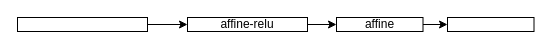
Image size: 552x51. Some labels were removed from this diagram. The shapes that lost their labels are listed below. From the top down, each one's box as (x1, y1, x2, y2) in pixels, then its label:
(16, 16, 148, 32): Conv-Relu-Pool
(446, 16, 534, 32): Softmax
